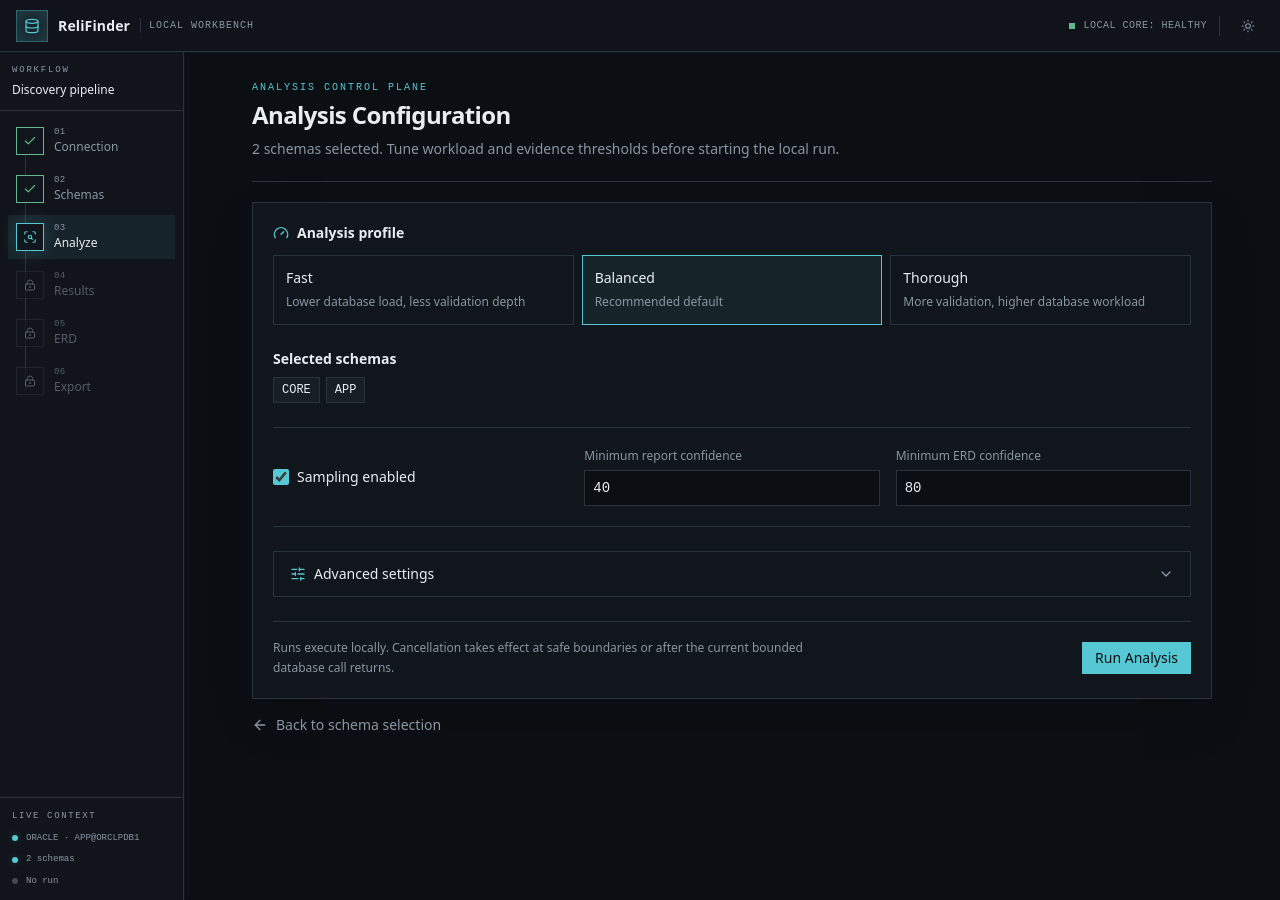
analysis configuration and run workflow › marks advanced edits Custom and validates client-side ranges
Click the heading "Advanced settings". click: click(374, 574)
box: [290, 564, 1174, 583]
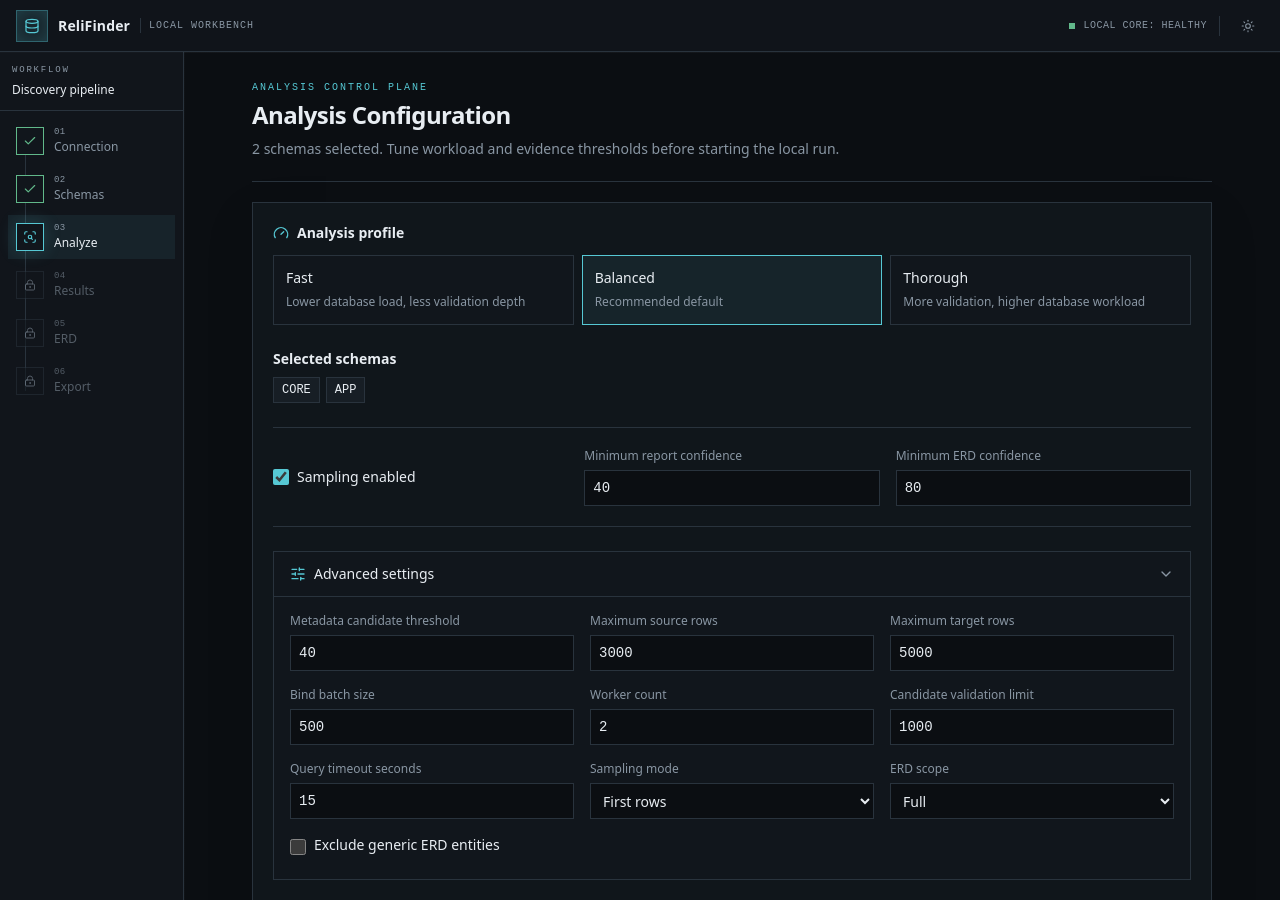
Clear the number field labelled "Worker count". click: (732, 727)
box: [590, 709, 874, 745]
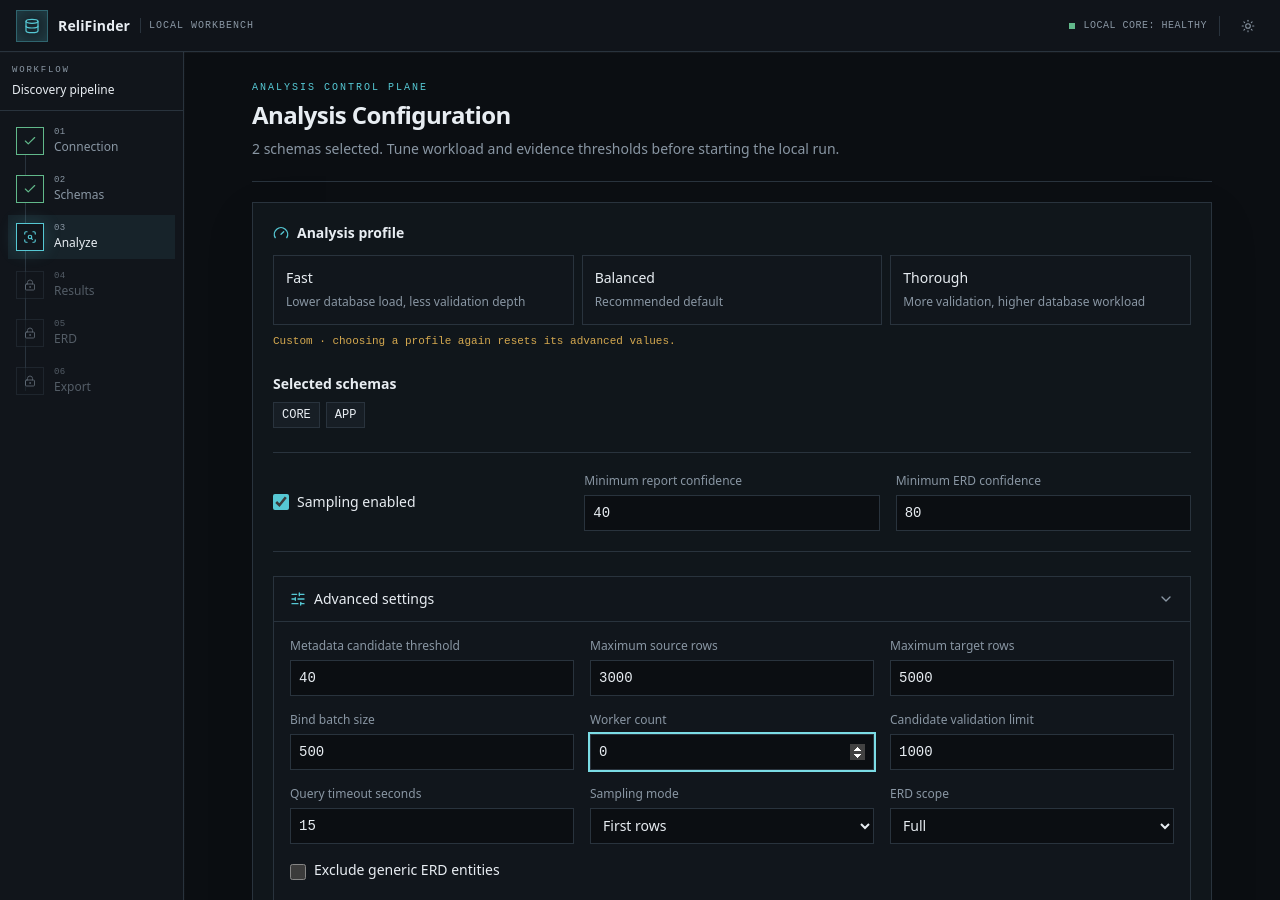
Type "3" into the number field labelled "Worker count". click: (732, 752)
box: [590, 734, 874, 770]
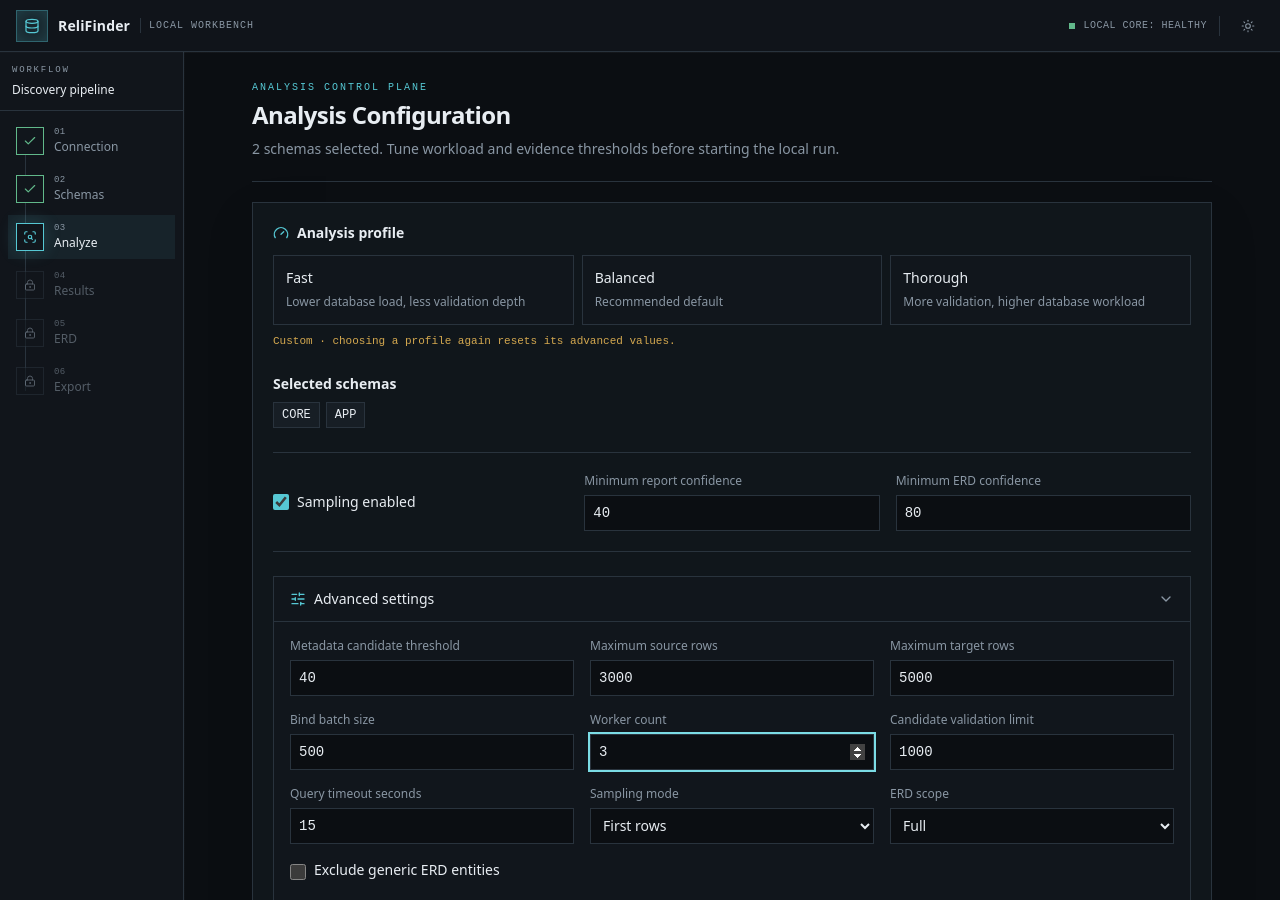
Check: the text "Custom ·" is shown, box [273, 335, 676, 347]
Replace the text in the number field labelled "Minimum report confidence" with "101". click: (732, 512)
box: [584, 494, 880, 530]
(page scrolled)
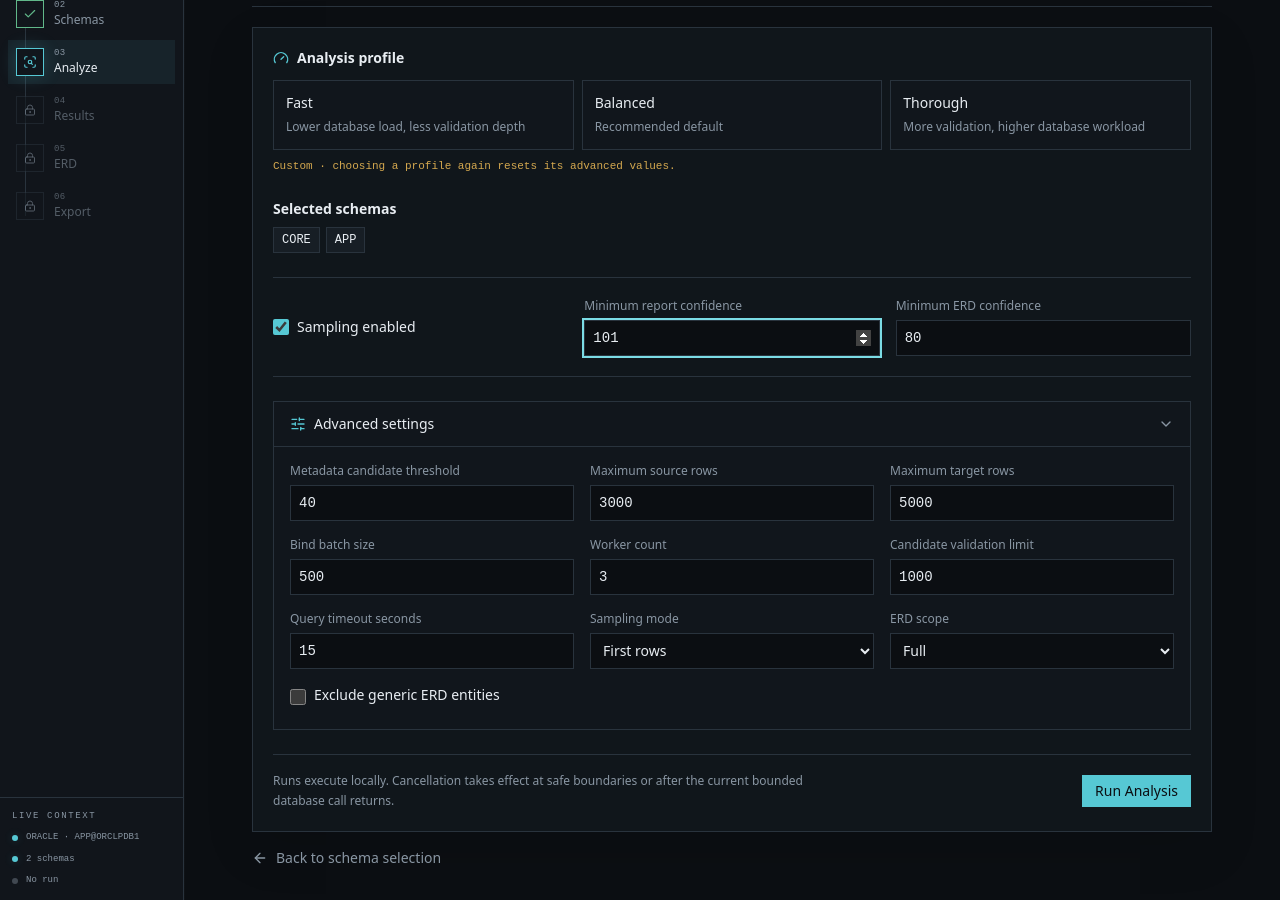
Click the button "Run Analysis". click: click(1137, 790)
box: [1082, 774, 1191, 806]
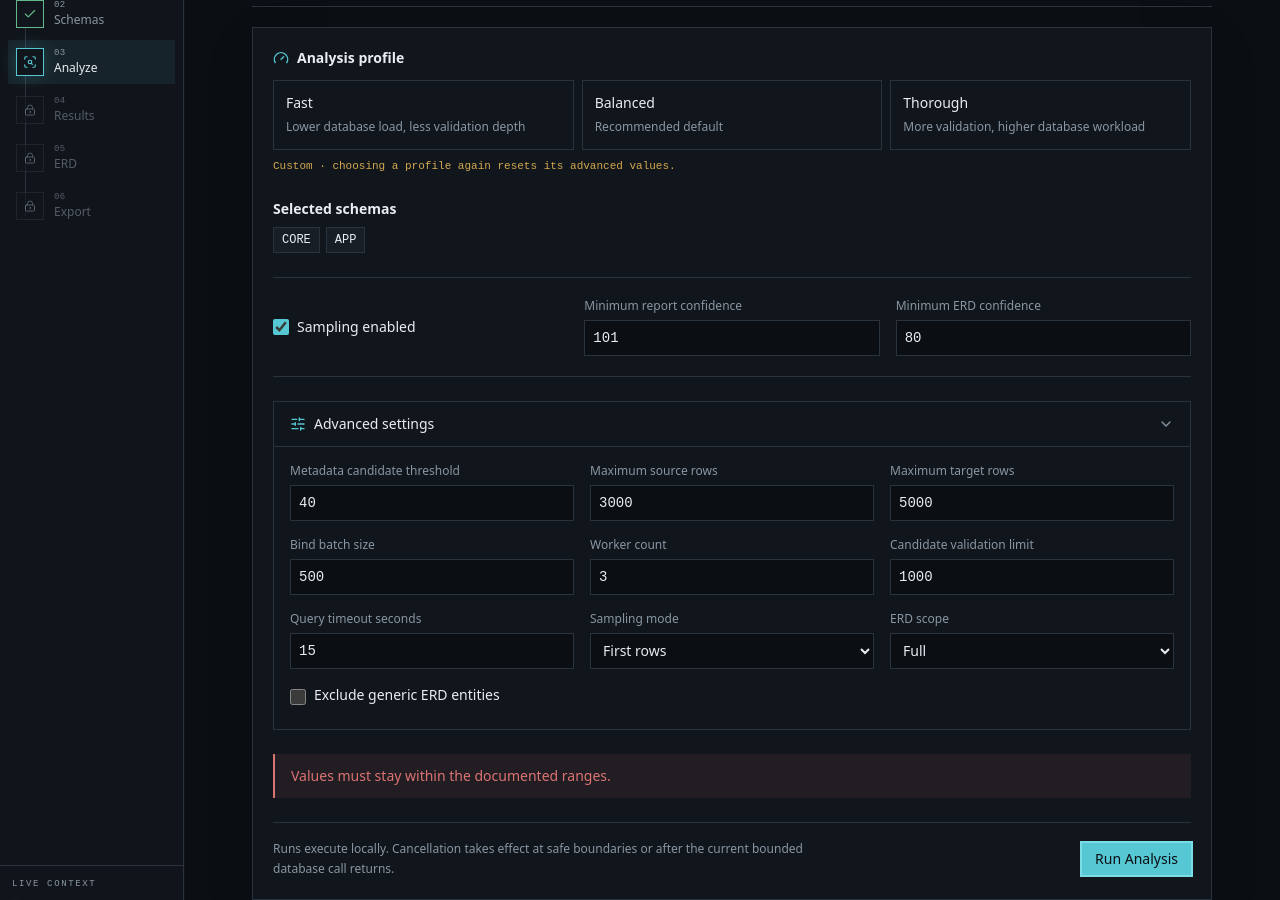
Check: the message reads "Values must stay within the documented ranges.", box [291, 766, 611, 784]
